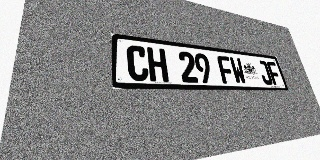2: (178, 51, 198, 83)
9: (193, 53, 213, 83)
C: (126, 45, 149, 81)
F: (216, 55, 235, 84), (266, 61, 282, 85)
H: (147, 47, 169, 82)
J: (256, 60, 273, 85)
W: (229, 57, 247, 84)
